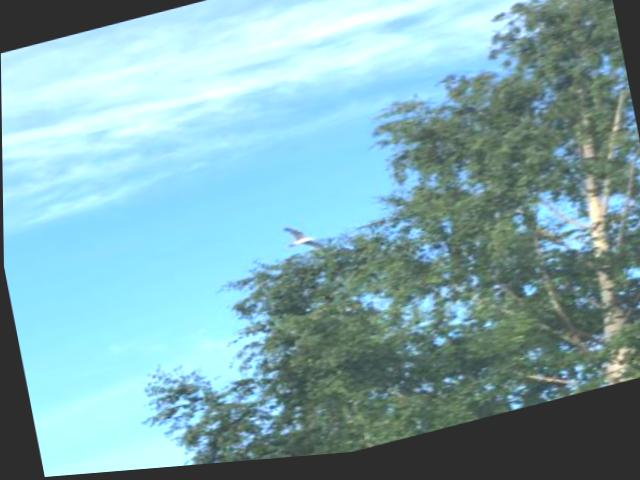bird: (260, 211, 350, 272)
